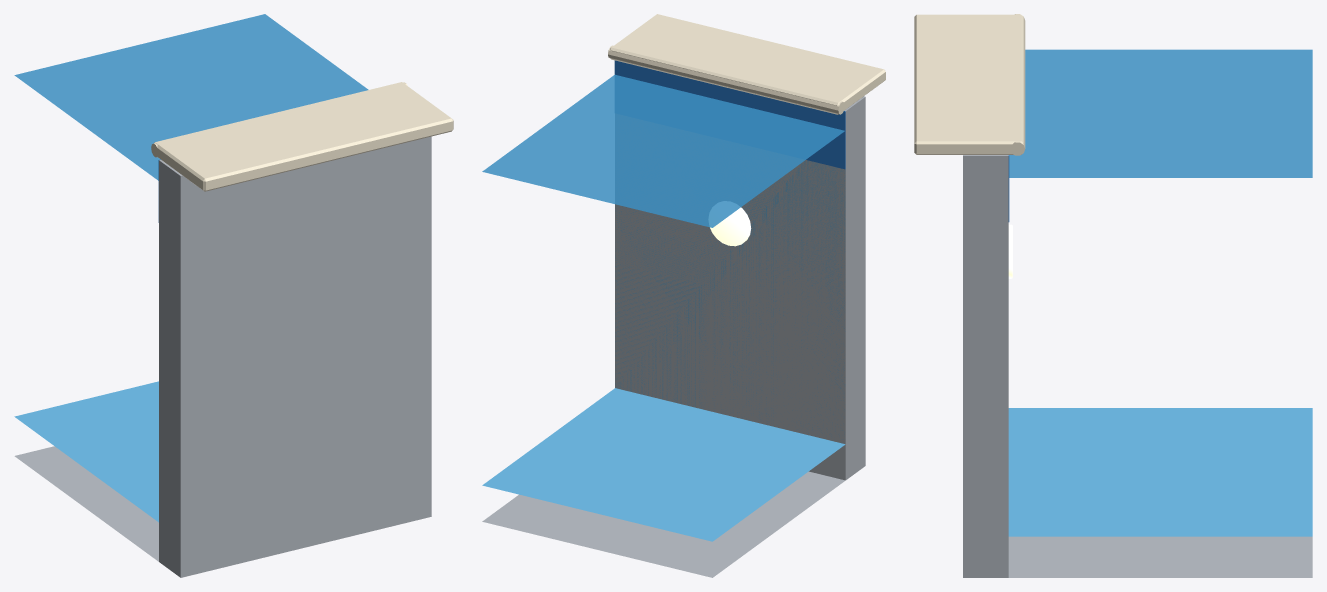
File: piscina_borda_luz.glb
3 renders of one model, left to right at view 1: azimuth 30°, elevation 25°; view 2: azimuth 150°, elevation 25°; view 3: azimuth 270°, elevation 25°, orthographic. The views are drawn at different scales.
Visible parts, largest first — view 1: piscina_borda_luz; view 2: piscina_borda_luz; view 3: piscina_borda_luz.
Part boxes in pixels (box(x1,y1,x2,y2)): piscina_borda_luz: box(14, 14, 453, 577); piscina_borda_luz: box(482, 14, 885, 577); piscina_borda_luz: box(914, 14, 1312, 577).
Bounding box in the file's own units: 1 × 1.58 × 1.31.
4 materials, 1 textured.
